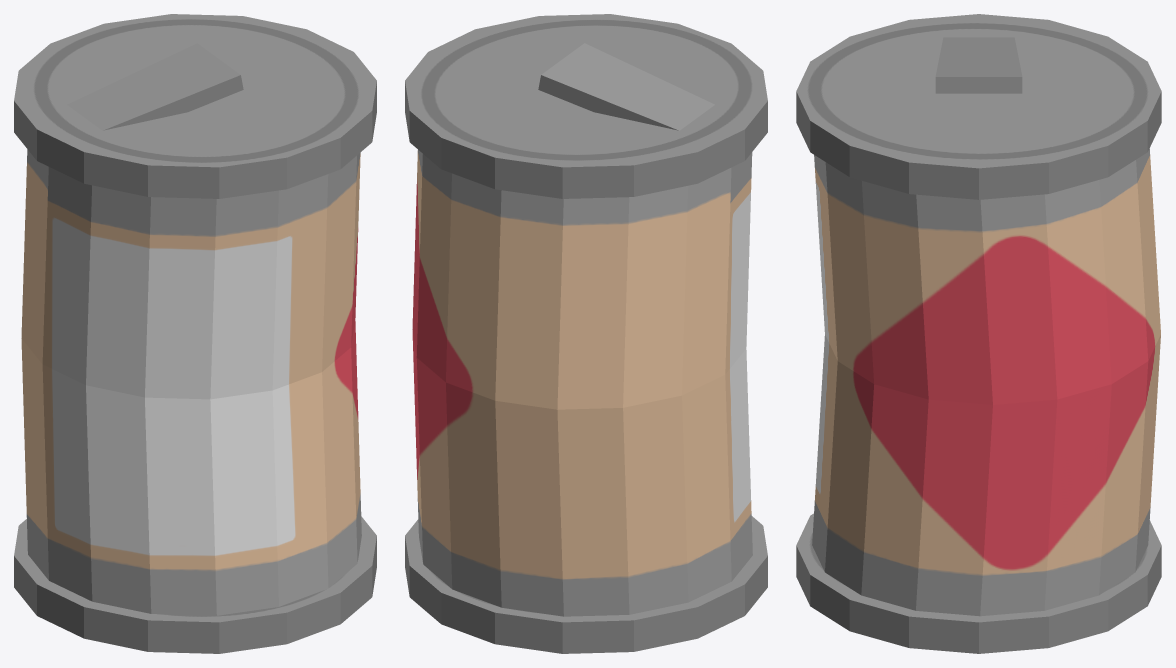
File: can.fbx
3 renders of one model, left to right at view 1: azimuth 30°, elevation 25°; view 2: azimuth 150°, elevation 25°; view 3: azimuth 270°, elevation 25°, orthographic.
Parts seen in each view (by area): view 1: Can; view 2: Can; view 3: Can.
Boxes of the visible parts, left/top/right/bottom form: Can: left=14, top=14, right=376, bottom=653; Can: left=405, top=14, right=767, bottom=653; Can: left=796, top=14, right=1161, bottom=653.
Bounding box in the file's own units: 210 × 324 × 210.
